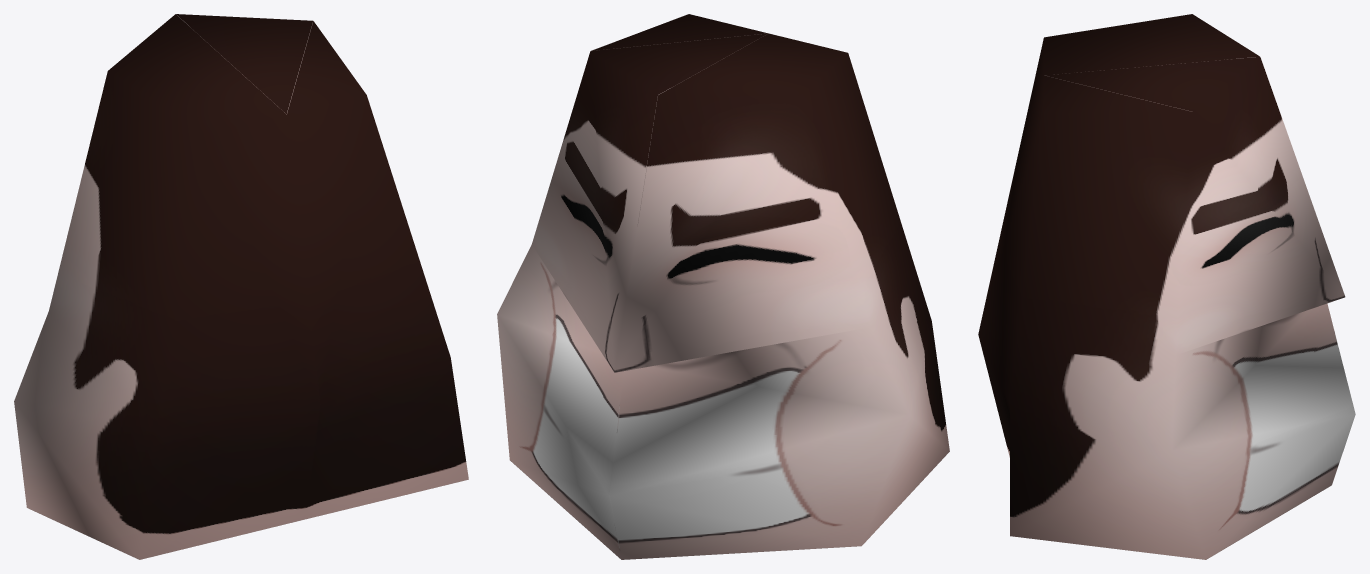
Rendered from blowhard_jr.glb.
3 renders of one model, left to right at view 1: azimuth 30°, elevation 25°; view 2: azimuth 150°, elevation 25°; view 3: azimuth 270°, elevation 25°, orthographic. The views are drawn at different scales.
Parts seen in each view (by area): view 1: blowhard; view 2: blowhard; view 3: blowhard.
Part boxes in pixels (left/top/right/bottom): blowhard: left=14, top=14, right=468, bottom=559; blowhard: left=497, top=14, right=949, bottom=559; blowhard: left=978, top=14, right=1355, bottom=559.
Bounding box in the file's own units: 1.37 × 1.39 × 1.11.
Materials: 1 (1 with a texture image).
